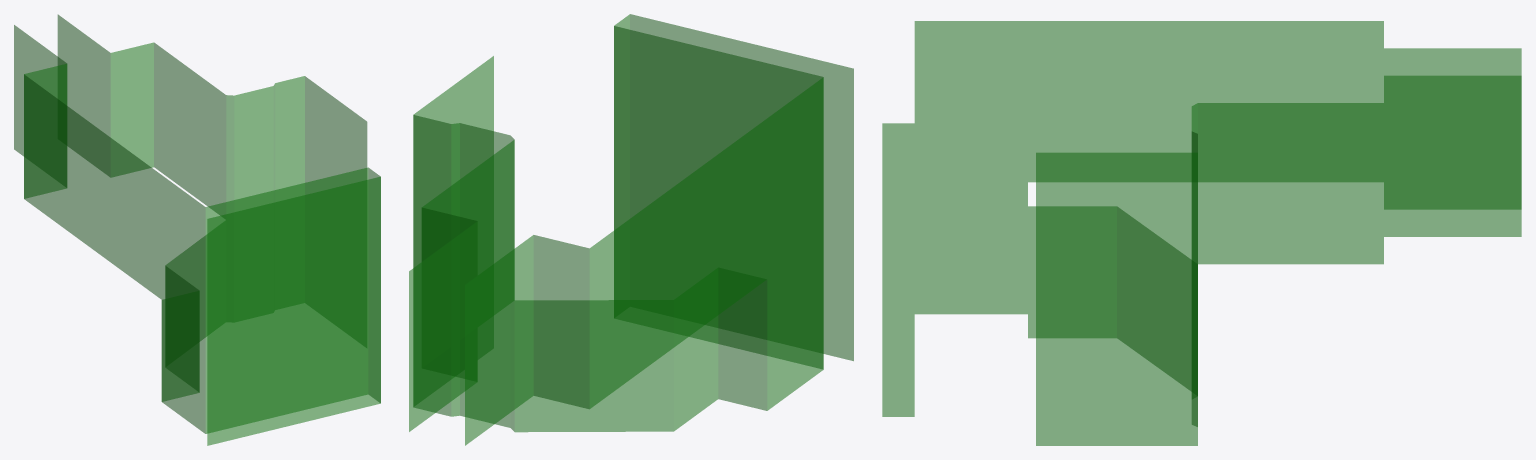
The model's file is D10_wall01.obj.
3 views of the same model, side by side, from view 1: azimuth 30°, elevation 25°; view 2: azimuth 150°, elevation 25°; view 3: azimuth 270°, elevation 25° (orthographic). The views are drawn at different scales.
Size of the model in its own units: 40.5 by 40 by 79.
